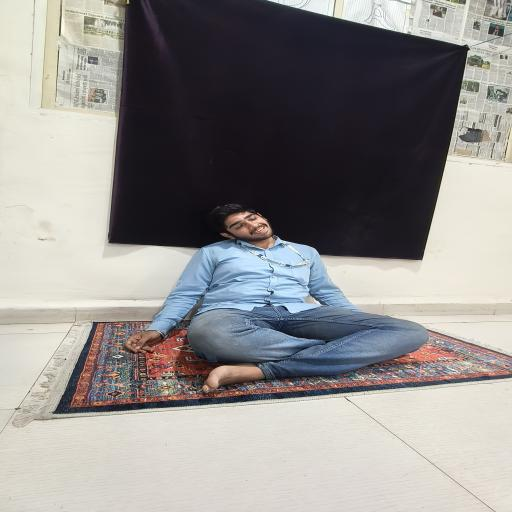survivor: (123, 204, 430, 395)
